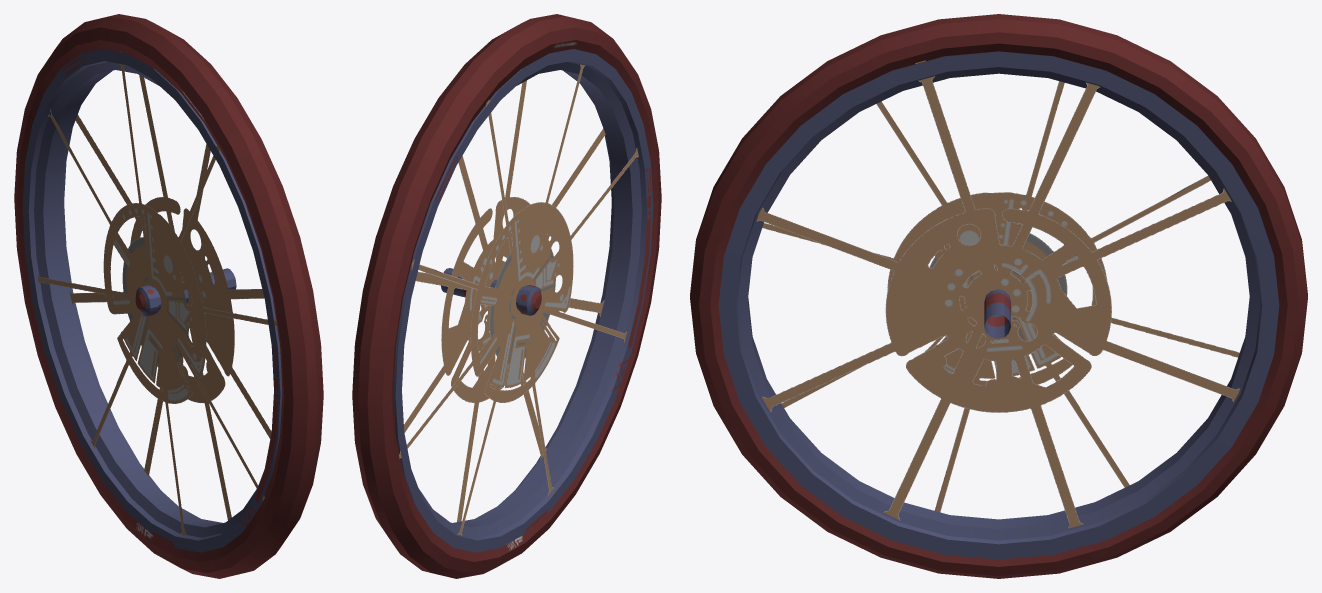
The model's file is llanta_delantera_der.fbx.
3 renders of one model, left to right at view 1: azimuth 30°, elevation 25°; view 2: azimuth 150°, elevation 25°; view 3: azimuth 270°, elevation 25°, orthographic. The views are drawn at different scales.
Visible parts, largest first — view 1: whe_delantera_der; view 2: whe_delantera_der; view 3: whe_delantera_der.
Boxes of the visible parts, <box> form: whe_delantera_der: <box>14,14,323,578</box>; whe_delantera_der: <box>352,14,661,578</box>; whe_delantera_der: <box>690,14,1307,578</box>.
Size of the model in its own units: 15.07 by 82.09 by 82.09.
